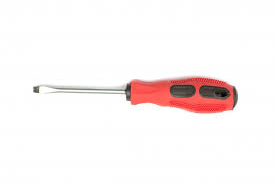Screwdriver: (28, 72, 243, 120)
